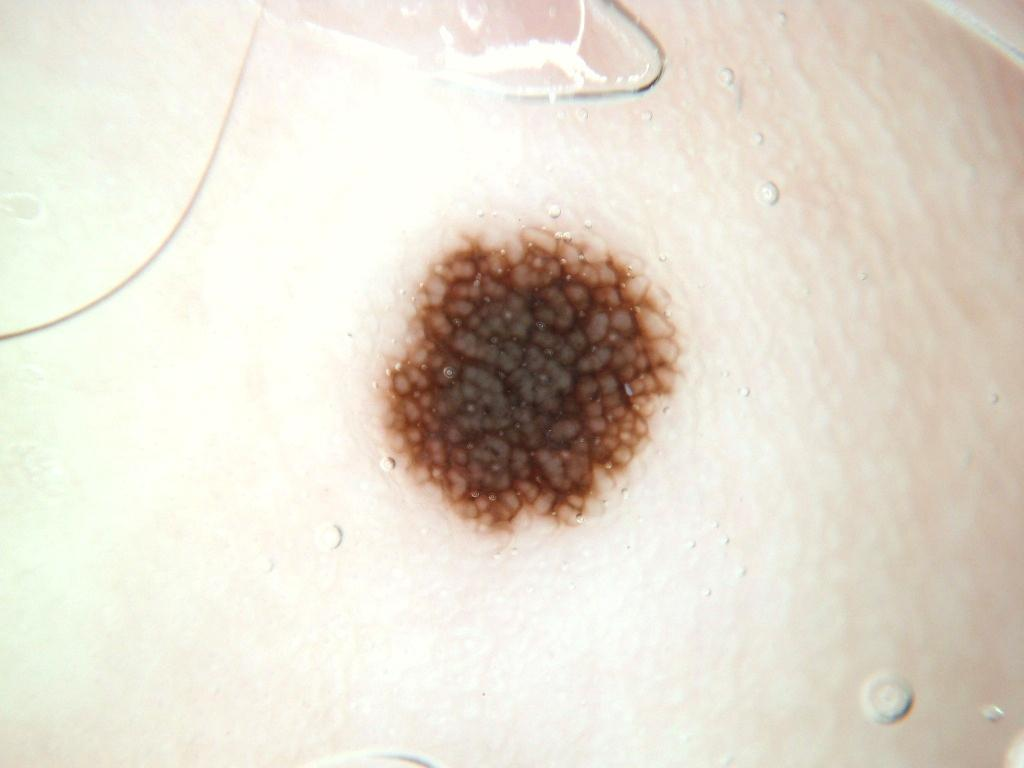Detected Lesion: (369, 222, 689, 543)
